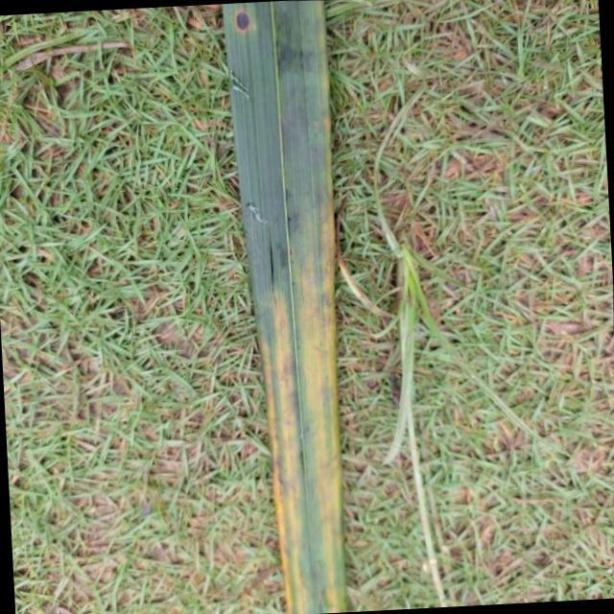Megnesium: (222, 0, 347, 614)
